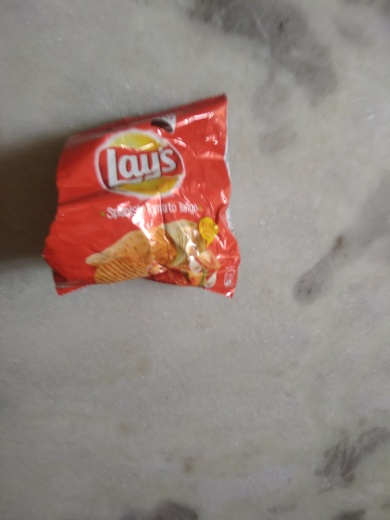lays: (38, 88, 243, 321)
